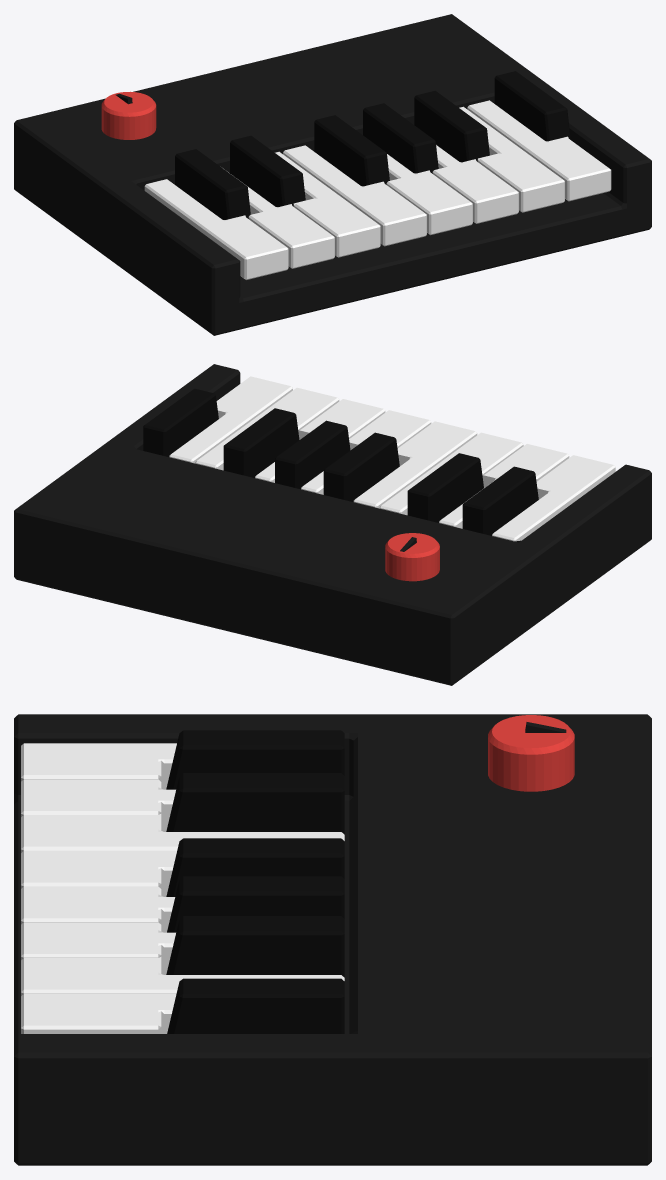
Rendered from 3D-synth-1f.gltf.
The picture shows the model from 3 angles, top to bottom: view 1: azimuth 30°, elevation 25°; view 2: azimuth 150°, elevation 25°; view 3: azimuth 270°, elevation 25°; orthographic projection. The views are drawn at different scales.
Parts seen in each view (by area): view 1: cabinet, Key@0-c0, Key@12-c1, Key@5-f0, Key@11-b0, Key@4-e0, Key@2-d0, Key@3-d#0, Key@6-f#0, Key@7-g0, Key@10-a#0, Key@1-c#0 (+4 smaller); view 2: cabinet, Key@0-c0, Key@5-f0, Key@12-c1, Key@3-d#0, Key@6-f#0, Key@10-a#0, Key@1-c#0, Key@13-c#1, Key@8-g#0, KnobFilter, Key@11-b0 (+4 smaller); view 3: cabinet, Key@3-d#0, Key@10-a#0, Key@13-c#1, Key@1-c#0, Key@8-g#0, Key@6-f#0, Key@4-e0, Key@11-b0, Key@12-c1, Key@5-f0, Key@0-c0 (+4 smaller).
Part boxes in pixels (left/top/right/bottom): cabinet: left=14, top=14, right=651, bottom=335; Key@0-c0: left=144, top=179, right=288, bottom=279; Key@12-c1: left=467, top=100, right=611, bottom=201; Key@5-f0: left=283, top=145, right=426, bottom=246; Key@11-b0: left=459, top=106, right=564, bottom=212; Key@4-e0: left=275, top=151, right=380, bottom=257; Key@2-d0: left=223, top=168, right=334, bottom=268; Key@3-d#0: left=230, top=135, right=305, bottom=206; Key@6-f#0: left=314, top=115, right=389, bottom=186; Key@7-g0: left=386, top=154, right=472, bottom=235; Key@10-a#0: left=414, top=90, right=489, bottom=162; Key@1-c#0: left=175, top=149, right=250, bottom=219; cabinet: left=14, top=364, right=651, bottom=685; Key@0-c0: left=492, top=455, right=615, bottom=541; Key@5-f0: left=353, top=421, right=477, bottom=508; Key@12-c1: left=169, top=376, right=292, bottom=463; Key@3-d#0: left=407, top=453, right=483, bottom=522; Key@6-f#0: left=323, top=432, right=399, bottom=502; Key@10-a#0: left=223, top=408, right=299, bottom=477; Key@1-c#0: left=462, top=466, right=538, bottom=535; Key@13-c#1: left=143, top=388, right=218, bottom=456; Key@8-g#0: left=275, top=420, right=350, bottom=489; KnobFilter: left=385, top=533, right=439, bottom=581; Key@11-b0: left=195, top=387, right=339, bottom=470; cabinet: left=14, top=714, right=651, bottom=1165; Key@3-d#0: left=166, top=773, right=344, bottom=834; Key@10-a#0: left=166, top=916, right=344, bottom=977; Key@13-c#1: left=167, top=978, right=344, bottom=1033; Key@1-c#0: left=166, top=730, right=344, bottom=789; Key@8-g#0: left=167, top=876, right=344, bottom=932; Key@6-f#0: left=166, top=838, right=344, bottom=896; Key@4-e0: left=21, top=814, right=344, bottom=852; Key@11-b0: left=21, top=957, right=344, bottom=995; Key@12-c1: left=21, top=994, right=176, bottom=1033; Key@5-f0: left=21, top=850, right=176, bottom=896; Key@0-c0: left=21, top=743, right=176, bottom=789.
Size of what is drawn, in the model's own units: 2 by 0.4434 by 1.58.
